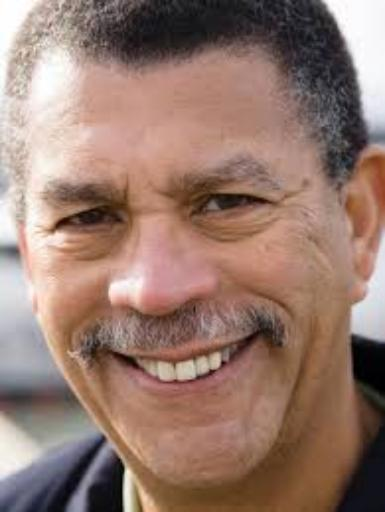left_eye: (192, 187, 270, 219)
left_lip_corner: (239, 322, 271, 357)
right_eye: (49, 205, 125, 238)
right_lip_corner: (102, 344, 140, 372)
